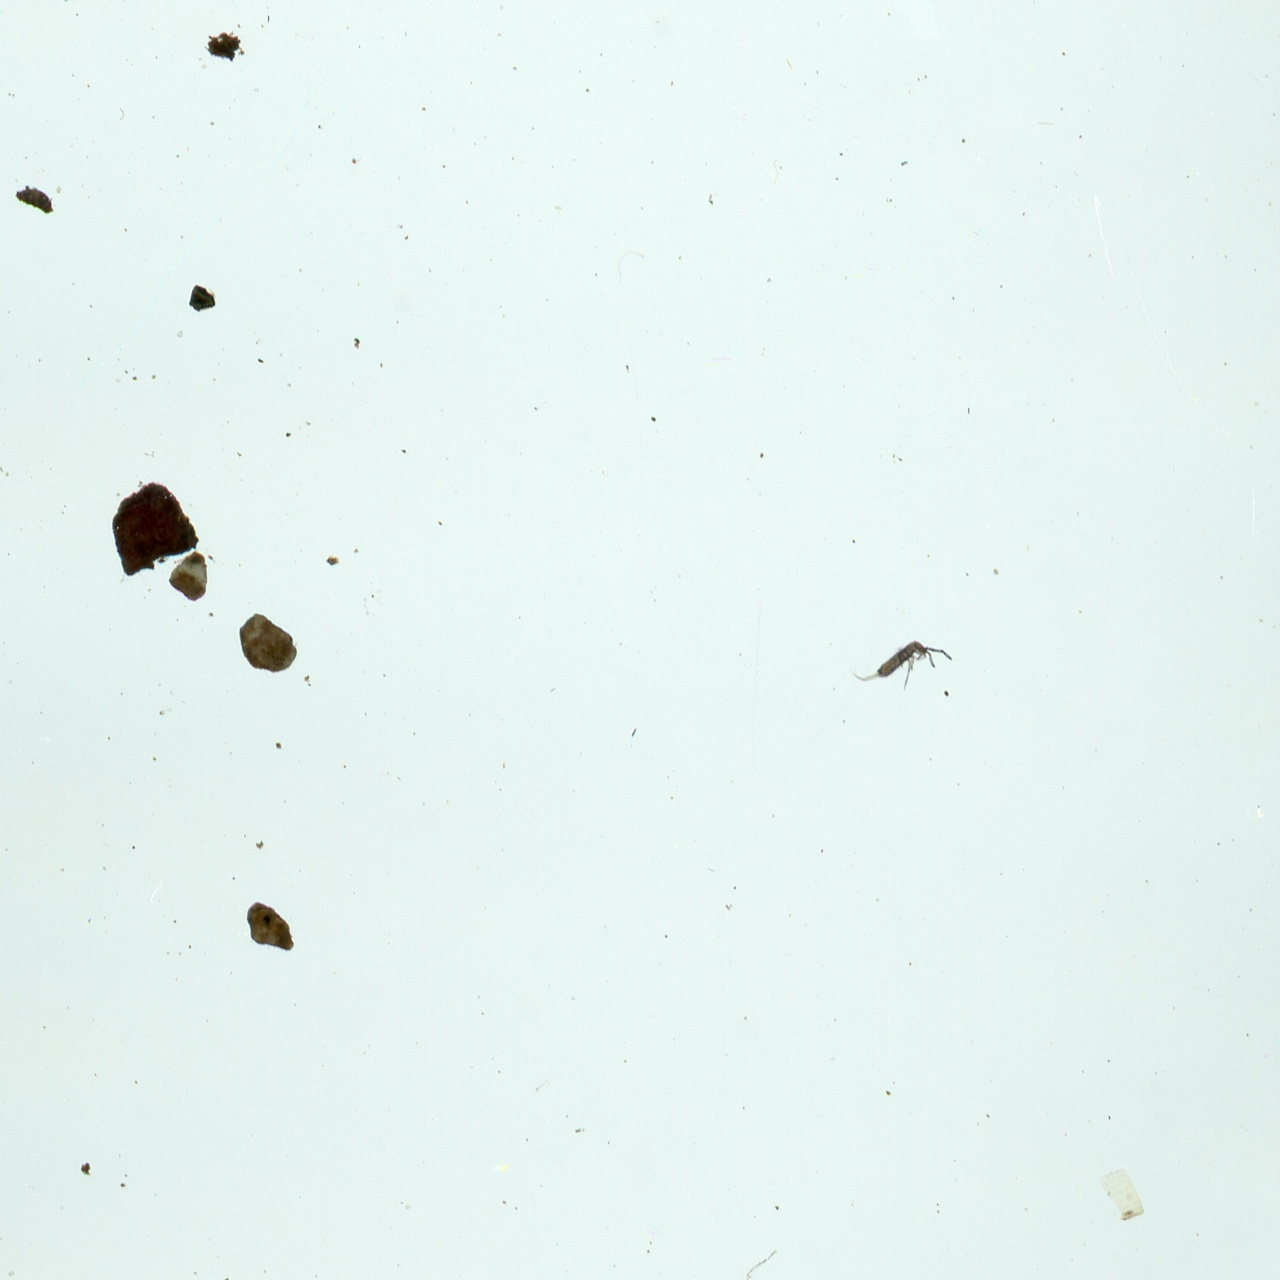arthropod: (849, 638, 955, 695)
